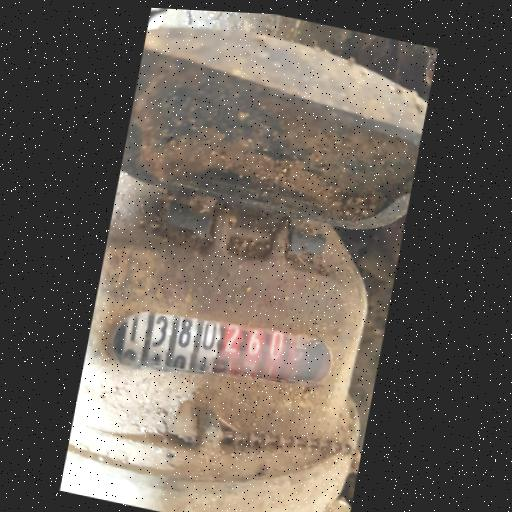0: (259, 325, 290, 383), (192, 317, 222, 375)
1: (118, 306, 151, 368)
2: (213, 319, 246, 377)
3: (142, 309, 175, 371)
5: (282, 331, 315, 383)
6: (237, 323, 268, 380)
8: (168, 312, 200, 372)
border_water_meter_number: (100, 278, 341, 414)
